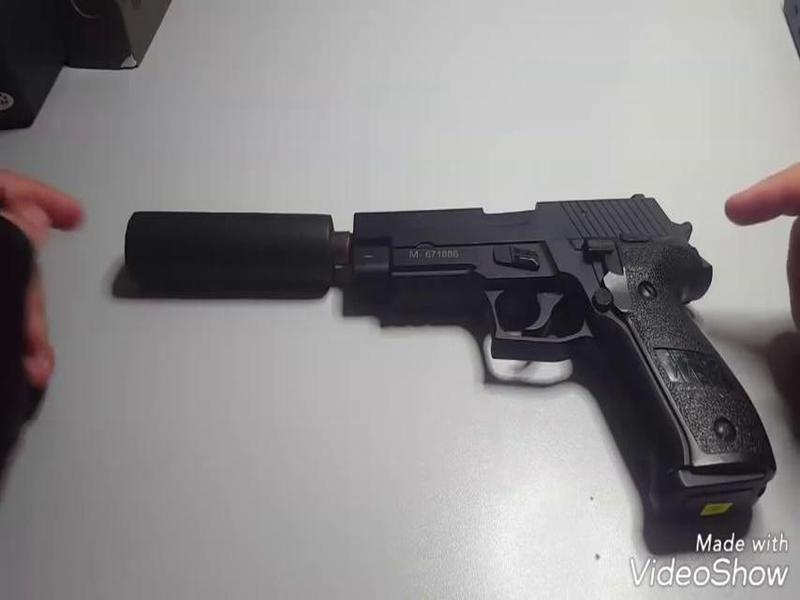Pistola: (111, 159, 800, 507)
